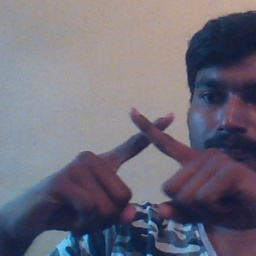X: (86, 97, 212, 211)
